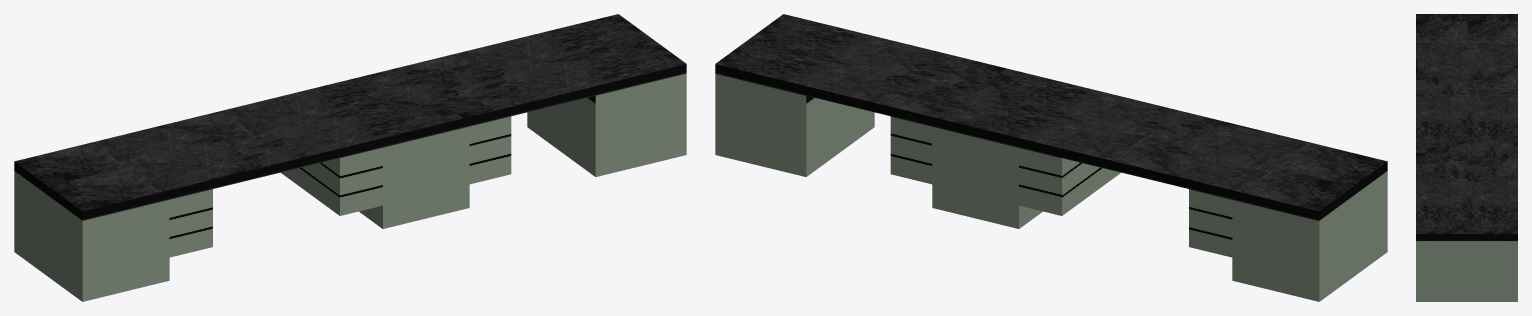
File: front table.FBX
3 renders of one model, left to right at view 1: azimuth 30°, elevation 25°; view 2: azimuth 150°, elevation 25°; view 3: azimuth 270°, elevation 25°, orthographic. The views are drawn at different scales.
Parts seen in each view (by area): view 1: main front table; view 2: main front table; view 3: main front table.
Part boxes in pixels (box(x1,y1,x2,y2)): main front table: box(14, 14, 686, 301); main front table: box(715, 14, 1387, 301); main front table: box(1416, 14, 1517, 301).
Bounding box in the file's own units: 626 × 90.09 × 123.
1 material, 1 textured.
